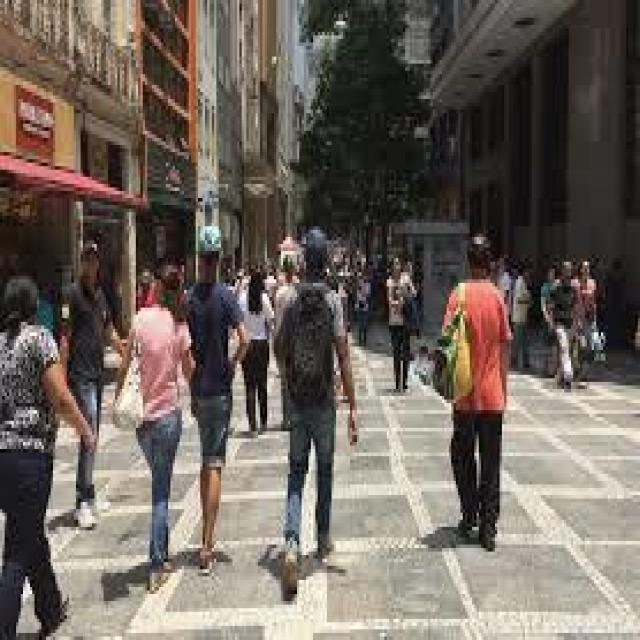person: (0, 234, 97, 636), (269, 198, 364, 598), (120, 230, 188, 590), (444, 223, 514, 555), (53, 208, 120, 538), (189, 205, 246, 566), (382, 230, 426, 414), (240, 272, 278, 435), (568, 244, 606, 382), (550, 222, 576, 406)
